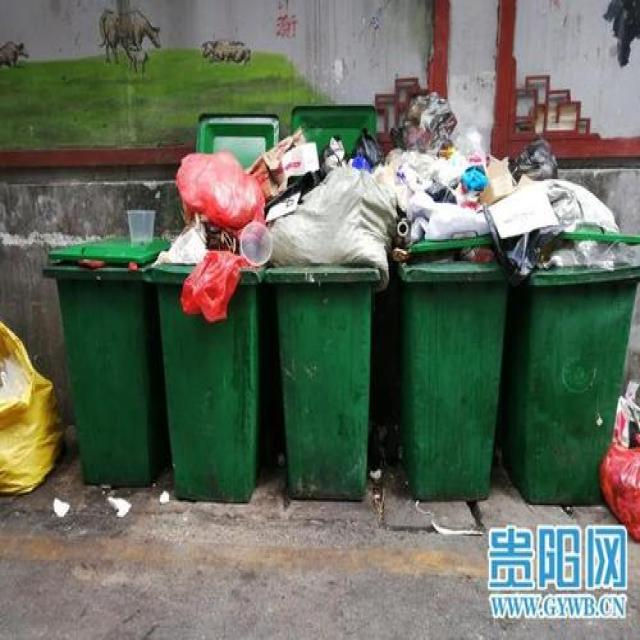garbage: (0, 317, 61, 493), (598, 379, 638, 541)
overflow: (389, 90, 508, 498), (507, 135, 637, 503), (262, 126, 388, 500), (147, 148, 265, 504), (43, 208, 169, 483)
